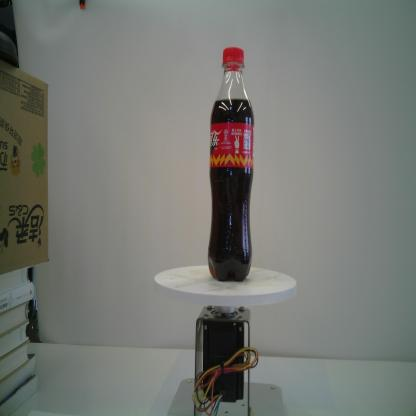Drink: (205, 45, 256, 284)
